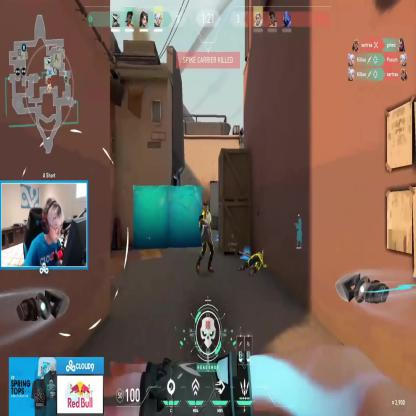enemy: (197, 199, 214, 280)
enemy_head: (204, 200, 208, 212)
